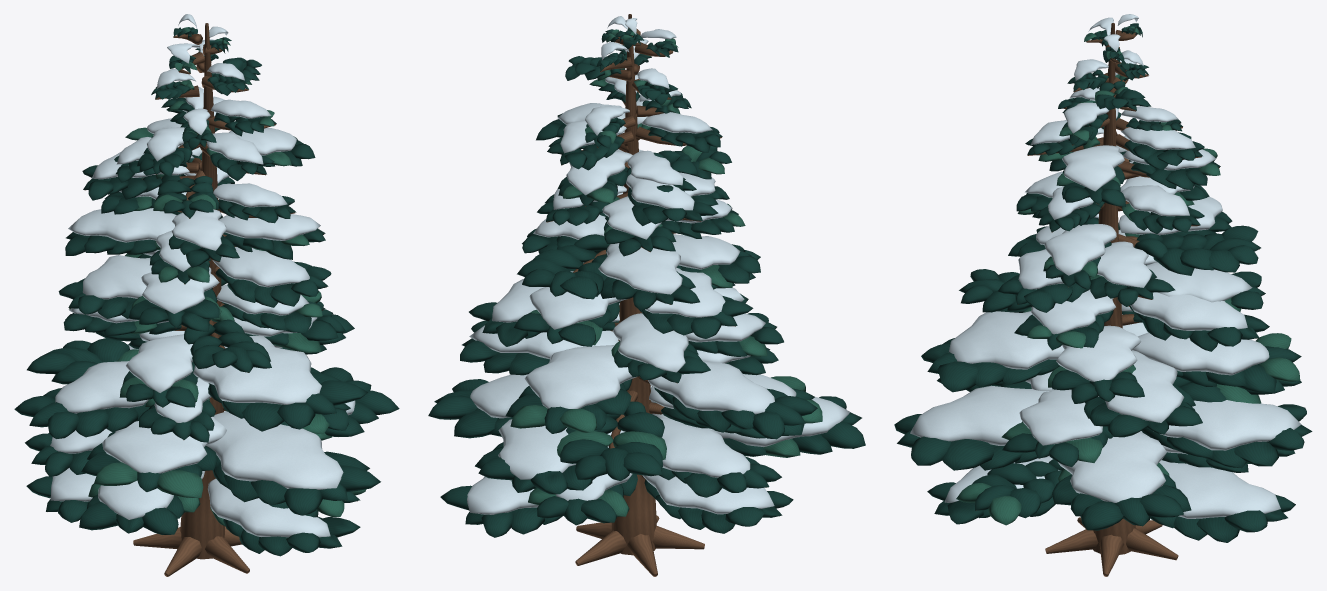
Rendered from pine_2.glb.
The picture shows the model from 3 angles, left to right: view 1: azimuth 30°, elevation 25°; view 2: azimuth 150°, elevation 25°; view 3: azimuth 270°, elevation 25°; orthographic projection.
Visible parts, largest first — view 1: pine_2; view 2: pine_2; view 3: pine_2.
Part boxes in pixels (bbox=[...]): pine_2: bbox=[14, 14, 399, 576]; pine_2: bbox=[428, 14, 865, 576]; pine_2: bbox=[894, 14, 1312, 576].
Size of the model in its own units: 2.88 by 4.05 by 2.9.
Materials: 4 (4 with a texture image).
